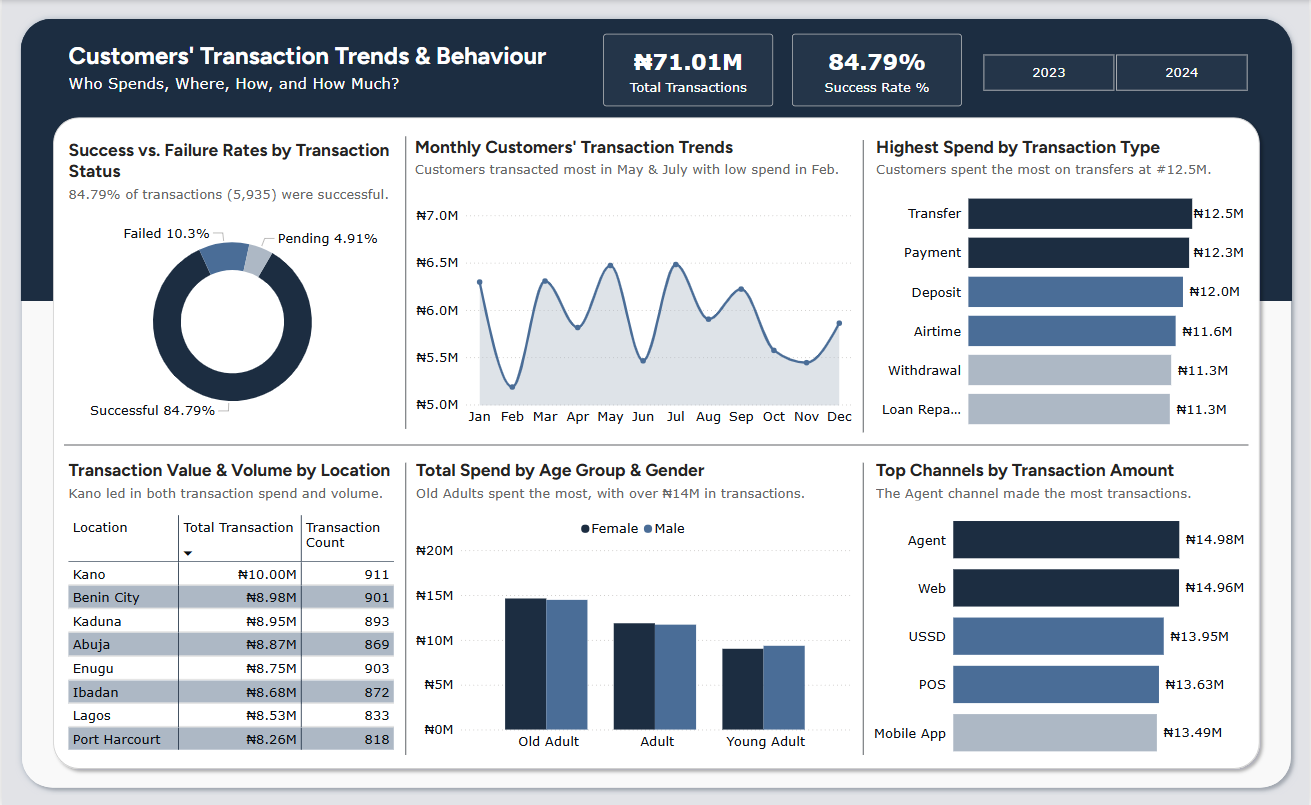

Layout of this report page (visuals, bound fields, positions):
{"tool":"powerbi","page":{"name":"Dashboard Visualization","canvas":[1600,990],"ordinal":1},"visuals":[{"type":"shape","box":[15.3,13.8,1571.9,959.7],"z":0},{"type":"shape","box":[23,23,1556.6,345.9],"z":1000},{"type":"shape","box":[53.6,134.7,1495.4,815.8],"z":2000},{"type":"shape","box":[76.5,538.8,1449.5,12.2],"z":3000},{"type":"shape","box":[488.3,166.8,12.2,358.2],"z":4000},{"type":"shape","box":[1048.5,171.4,12.2,358.2],"z":5000},{"type":"shape","box":[488.3,566.3,12.2,358.2],"z":6000},{"type":"shape","box":[1048.5,566.3,12.2,358.2],"z":7000},{"type":"donutChart","fields":{"Category":["Nigerian Fintech.Status"],"Y":["CountNonNull(Nigerian Fintech.Status)"]},"box":[76.5,258.7,411.7,270.9],"z":8000},{"type":"textbox","title":"Success vs. Failure Rates by Transaction Status","box":[76.5,171.4,411.7,105.6],"z":9000},{"type":"barChart","fields":{"Category":["Nigerian Fintech.Channel"],"Y":["Sum(Nigerian Fintech.Amount)"]},"box":[1050,601.5,479.1,349],"z":10000},{"type":"textbox","title":"Top Channels by Transaction Amount","box":[1065.3,563.3,460.7,79.6],"z":11000},{"type":"areaChart","fields":{"Y":["Sum(Nigerian Fintech.Amount)"],"Category":["Calendar Table.Month"]},"box":[502,248,546.4,281.6],"z":12000},{"type":"textbox","title":"Monthly Customers'' Transaction Trends","box":[500.5,166.8,546.4,81.1],"z":13000},{"type":"pivotTable","fields":{"Rows":["Nigerian Fintech.Location"],"Values":["Sum(Nigerian Fintech.Amount)","CountNonNull(Nigerian Fintech.Location)"]},"box":[76.5,626,411.7,300],"z":14000},{"type":"textbox","title":"Transaction Value & Volume by Location","box":[76.5,563.3,411.7,79.6],"z":15000},{"type":"barChart","fields":{"Category":["Nigerian Fintech.TransactionType"],"Y":["Sum(Nigerian Fintech.Amount)"]},"box":[1051.5,211.2,474.5,333.7],"z":16000},{"type":"textbox","title":"Highest Spend by Transaction Type","box":[1065.3,166.8,460.7,79.6],"z":17000},{"type":"clusteredColumnChart","fields":{"Category":["Nigerian Fintech.Age Group"],"Y":["Sum(Nigerian Fintech.Amount)"],"Series":["Nigerian Fintech.Gender"]},"box":[502,626,544.9,301.5],"z":18000},{"type":"textbox","title":"Total Spend by Age Group & Gender","box":[502,563.3,546.4,81.1],"z":19000},{"type":"textbox","title":"Customers'' Transaction Trends & Behaviour","box":[76.5,50.5,724,91.8],"z":20000},{"type":"slicer","fields":{"Values":["Calendar Table.Year"]},"box":[1175.5,59.7,373.5,58.2],"z":21000},{"type":"card","fields":{"Values":["DAX Measures.Success Rate %"]},"box":[967.4,41.3,208.2,88.8],"z":22000},{"type":"card","fields":{"Values":["Sum(Nigerian Fintech.Amount)"]},"box":[736.2,41.3,208.2,88.8],"z":23000}]}

Visuals, with their boxes in screenshot pixels (x1, y1, x2, y2), scaled from the page's 1600x990 canvas onto the 1311x805 screenshot:
shape: [left=13, top=11, right=1301, bottom=792]
shape: [left=19, top=19, right=1294, bottom=300]
shape: [left=44, top=110, right=1269, bottom=773]
shape: [left=63, top=438, right=1250, bottom=448]
shape: [left=400, top=136, right=410, bottom=427]
shape: [left=859, top=139, right=869, bottom=431]
shape: [left=400, top=460, right=410, bottom=752]
shape: [left=859, top=460, right=869, bottom=752]
donutChart - Nigerian Fintech.Status x CountNonNull(Nigerian Fintech.Status): [left=63, top=210, right=400, bottom=431]
"Success vs. Failure Rates by Transaction Status" textbox: [left=63, top=139, right=400, bottom=225]
barChart - Nigerian Fintech.Channel x Sum(Nigerian Fintech.Amount): [left=860, top=489, right=1253, bottom=773]
"Top Channels by Transaction Amount" textbox: [left=873, top=458, right=1250, bottom=523]
areaChart - Sum(Nigerian Fintech.Amount) x Calendar Table.Month: [left=411, top=202, right=859, bottom=431]
"Monthly Customers'' Transaction Trends" textbox: [left=410, top=136, right=858, bottom=202]
pivotTable - Nigerian Fintech.Location x Sum(Nigerian Fintech.Amount): [left=63, top=509, right=400, bottom=753]
"Transaction Value & Volume by Location" textbox: [left=63, top=458, right=400, bottom=523]
barChart - Nigerian Fintech.TransactionType x Sum(Nigerian Fintech.Amount): [left=862, top=172, right=1250, bottom=443]
"Highest Spend by Transaction Type" textbox: [left=873, top=136, right=1250, bottom=200]
clusteredColumnChart - Nigerian Fintech.Age Group x Sum(Nigerian Fintech.Amount): [left=411, top=509, right=858, bottom=754]
"Total Spend by Age Group & Gender" textbox: [left=411, top=458, right=859, bottom=524]
"Customers'' Transaction Trends & Behaviour" textbox: [left=63, top=41, right=656, bottom=116]
slicer - Calendar Table.Year: [left=963, top=49, right=1269, bottom=96]
card - DAX Measures.Success Rate %: [left=793, top=34, right=963, bottom=106]
card - Sum(Nigerian Fintech.Amount): [left=603, top=34, right=774, bottom=106]
